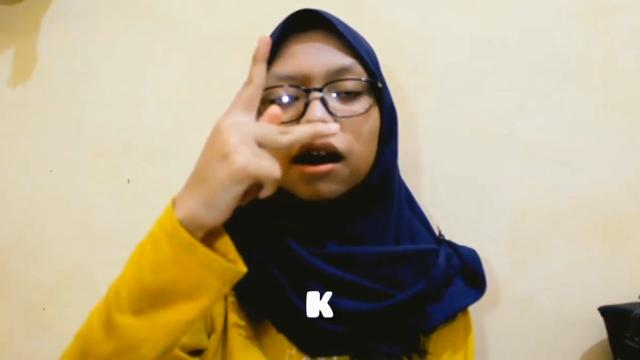K: (189, 30, 339, 240)
